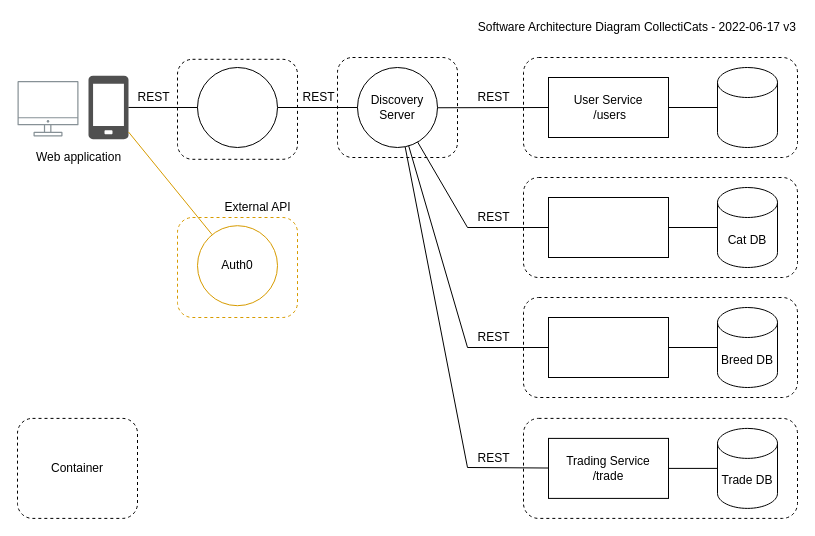
This 815x536 diagram has some shape labels left out. Here are the shapes that lost their labels. From the top down, the centre of each, then its label:
At (x=237, y=107): "API Gateway".
At (x=747, y=107): "User DB".
At (x=608, y=227): "Cat Service /cats".
At (x=608, y=347): "Breeding Service /breed".
